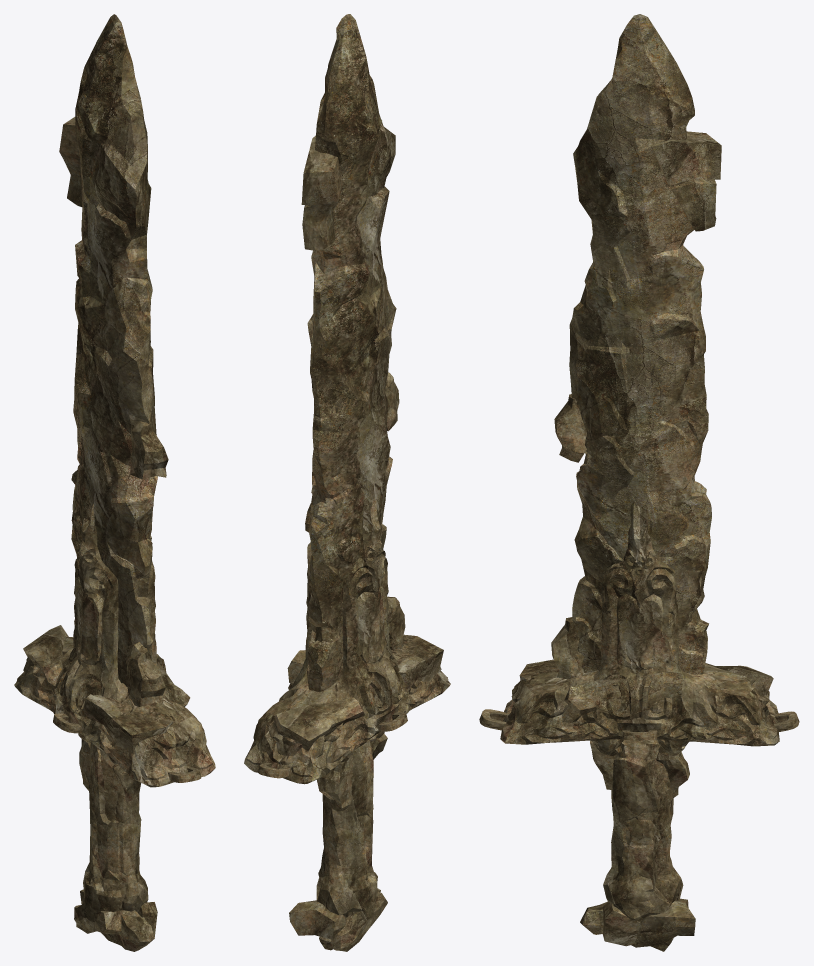
The model's file is StoneSword.FBX.
3 renders of one model, left to right at view 1: azimuth 30°, elevation 25°; view 2: azimuth 150°, elevation 25°; view 3: azimuth 270°, elevation 25°, orthographic.
Visible parts, largest first — view 1: SC_FeuHuGuanJian01; view 2: SC_FeuHuGuanJian01; view 3: SC_FeuHuGuanJian01.
Part boxes in pixels (x1,y1,x2,y2): SC_FeuHuGuanJian01: [14, 14, 215, 951]; SC_FeuHuGuanJian01: [244, 14, 450, 951]; SC_FeuHuGuanJian01: [479, 14, 799, 951].
Bounding box in the file's own units: 14.29 × 112 × 34.78.
Materials: 1 (1 with a texture image).
